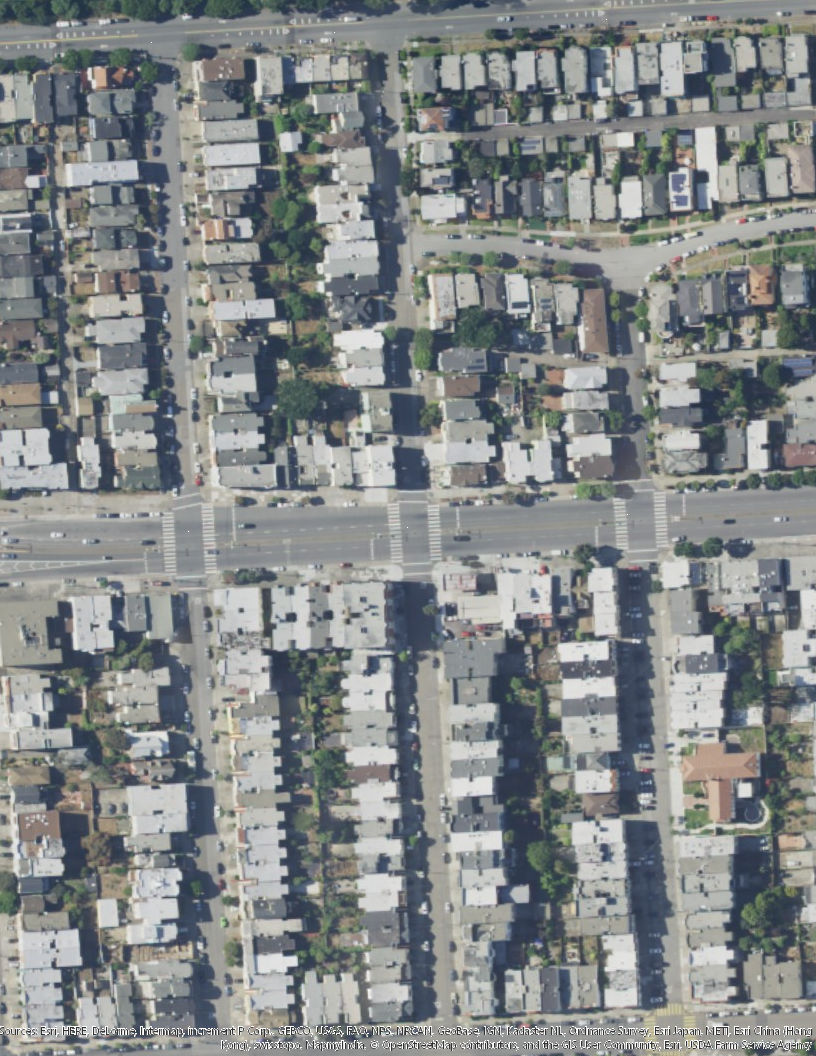zebracross: (200, 502, 218, 574), (383, 505, 404, 565), (159, 512, 178, 575), (651, 493, 669, 549), (426, 506, 443, 562), (612, 499, 629, 552), (641, 1020, 655, 1054), (655, 1003, 687, 1017), (687, 1016, 697, 1045)
